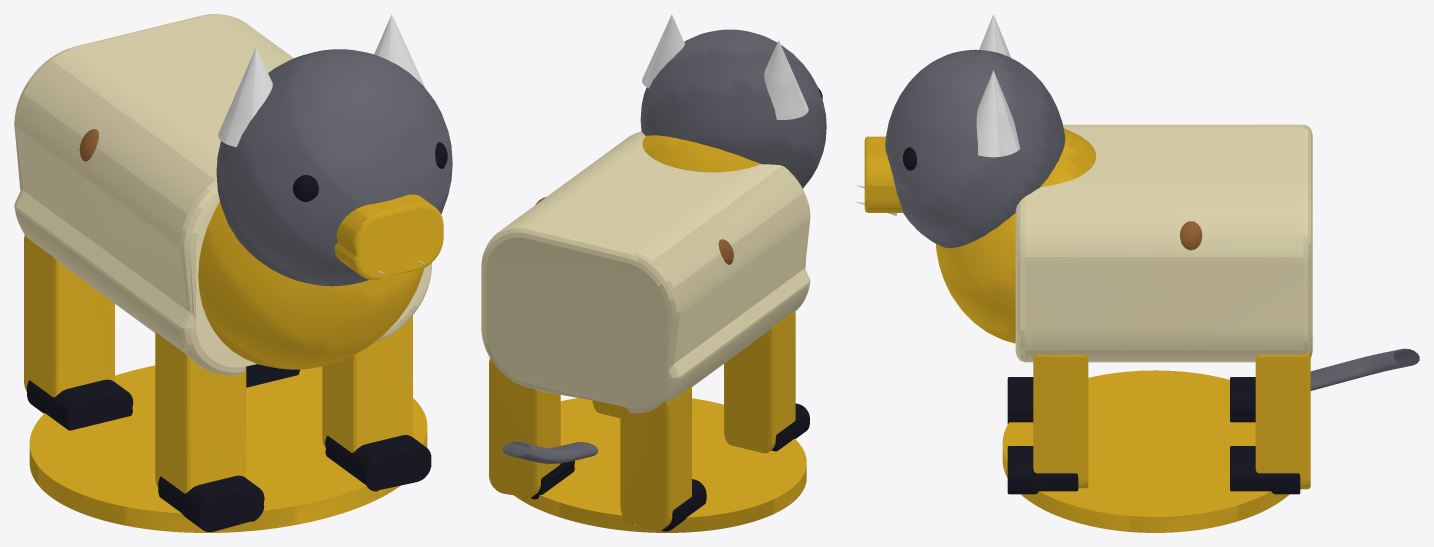
The model's file is 0588_非洲动物图鉴_七彩变色龙.glb.
3 renders of one model, left to right at view 1: azimuth 30°, elevation 25°; view 2: azimuth 150°, elevation 25°; view 3: azimuth 270°, elevation 25°, orthographic. The views are drawn at different scales.
Visible parts, largest first — view 1: card_0588; view 2: card_0588; view 3: card_0588.
Boxes of the visible parts, x1,y1,x2,y2 form: card_0588: (14,14,452,532); card_0588: (481,14,826,532); card_0588: (856,14,1419,532).
Size of the model in its own units: 0.752 by 1 by 1.22.
